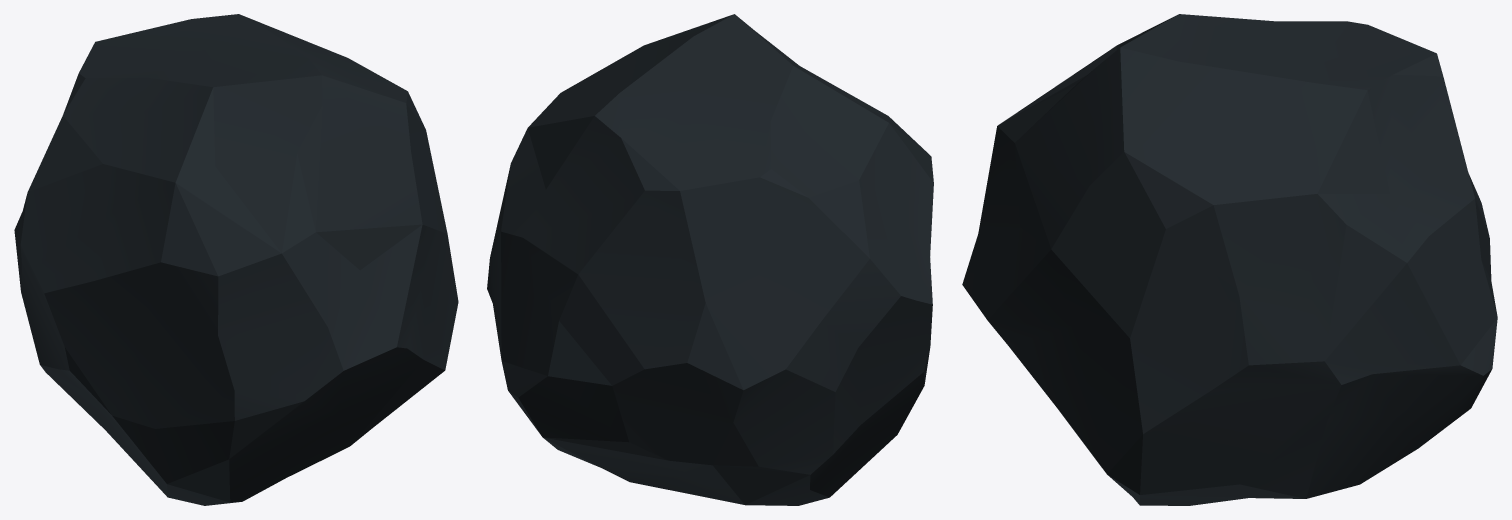
The model's file is Asteroid_s_13.FBX.
3 views of the same model, side by side, from view 1: azimuth 30°, elevation 25°; view 2: azimuth 150°, elevation 25°; view 3: azimuth 270°, elevation 25° (orthographic). The views are drawn at different scales.
Visible parts, largest first — view 1: Asteroid_s_13; view 2: Asteroid_s_13; view 3: Asteroid_s_13.
Boxes of the visible parts, x1,y1,x2,y2 form: Asteroid_s_13: [14, 14, 458, 505]; Asteroid_s_13: [487, 14, 933, 505]; Asteroid_s_13: [962, 14, 1497, 505].
Size of the model in its own units: 172 by 178 by 181.
